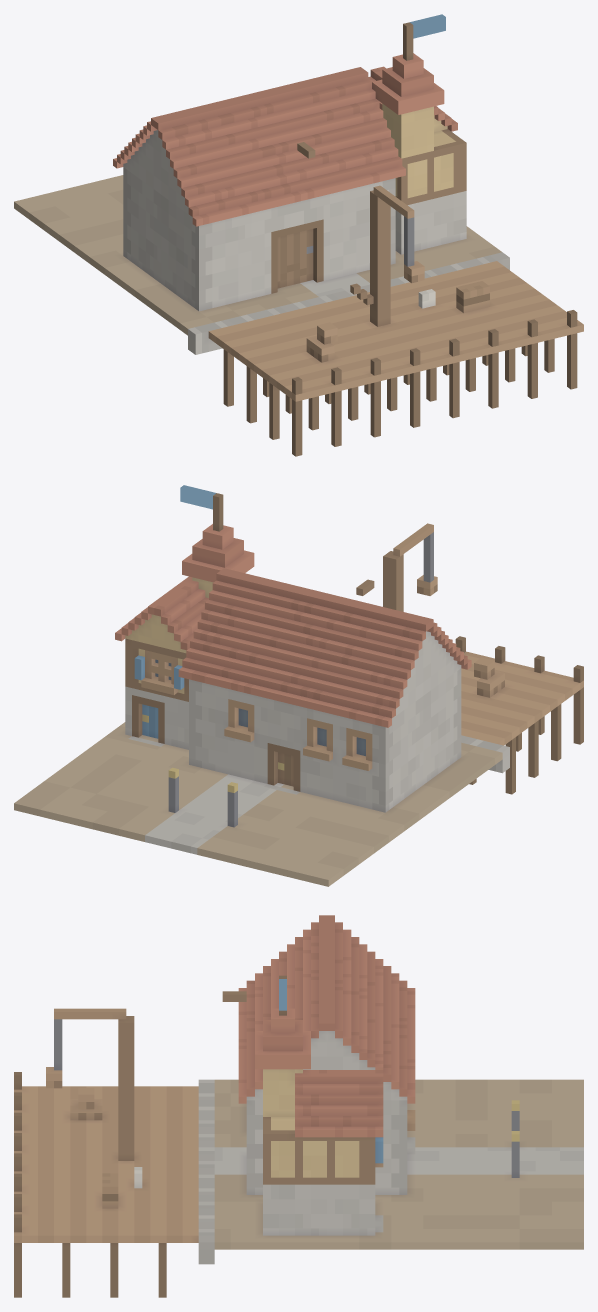
Rendered from trading_post.l4.glb.
3 renders of one model, top to bottom at view 1: azimuth 30°, elevation 25°; view 2: azimuth 150°, elevation 25°; view 3: azimuth 270°, elevation 25°, orthographic. The views are drawn at different scales.
Visible parts, largest first — view 1: trading_post; view 2: trading_post; view 3: trading_post.
Boxes of the visible parts, box(x1,y1,x2,y2) form: trading_post: box(14, 14, 583, 456); trading_post: box(14, 485, 583, 886); trading_post: box(14, 915, 583, 1297).
Bounding box in the file's own units: 6 × 5.12 × 8.88.
